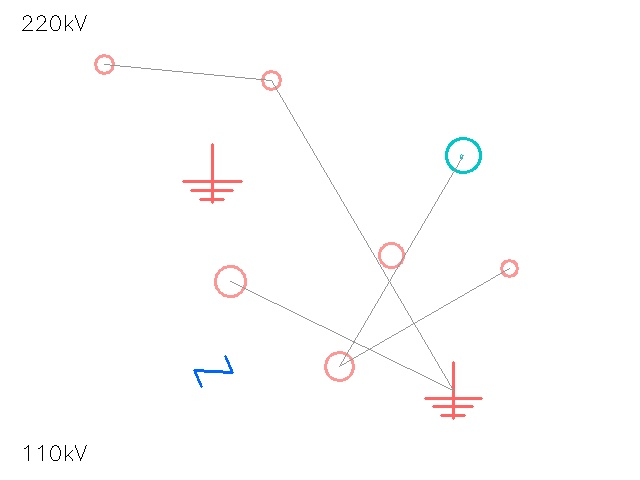circuit_breaker: (194, 352, 232, 390)
current_transformer: (311, 338, 367, 394), (85, 45, 123, 83)
fuse: (200, 251, 260, 311)
generator: (446, 138, 480, 172)
ground: (183, 144, 241, 202), (425, 362, 481, 418)
load_break_switch: (366, 230, 416, 280)
reactor: (253, 62, 289, 98)
voltage_transformer: (493, 252, 525, 284)
